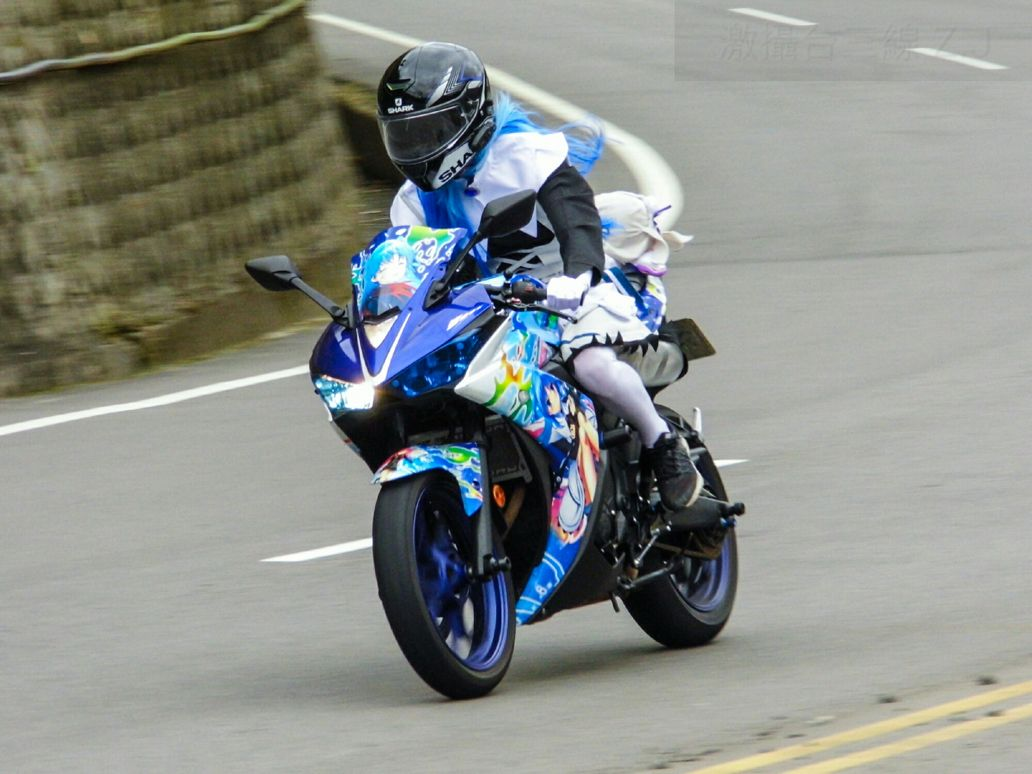helmet: (379, 45, 504, 187)
